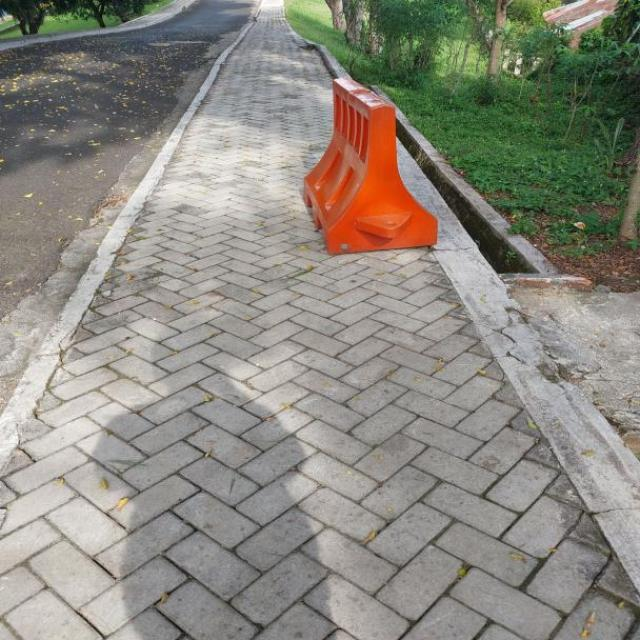barrier ahead at: (297, 72, 452, 260)
